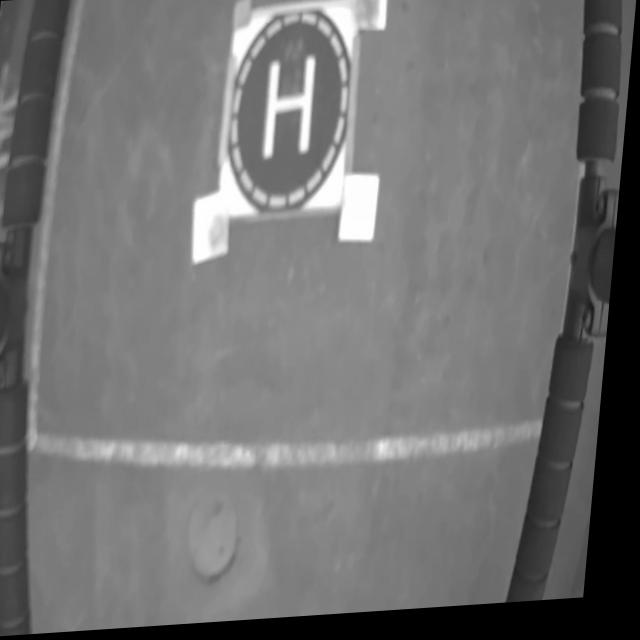Helipad: (264, 59, 317, 165)
